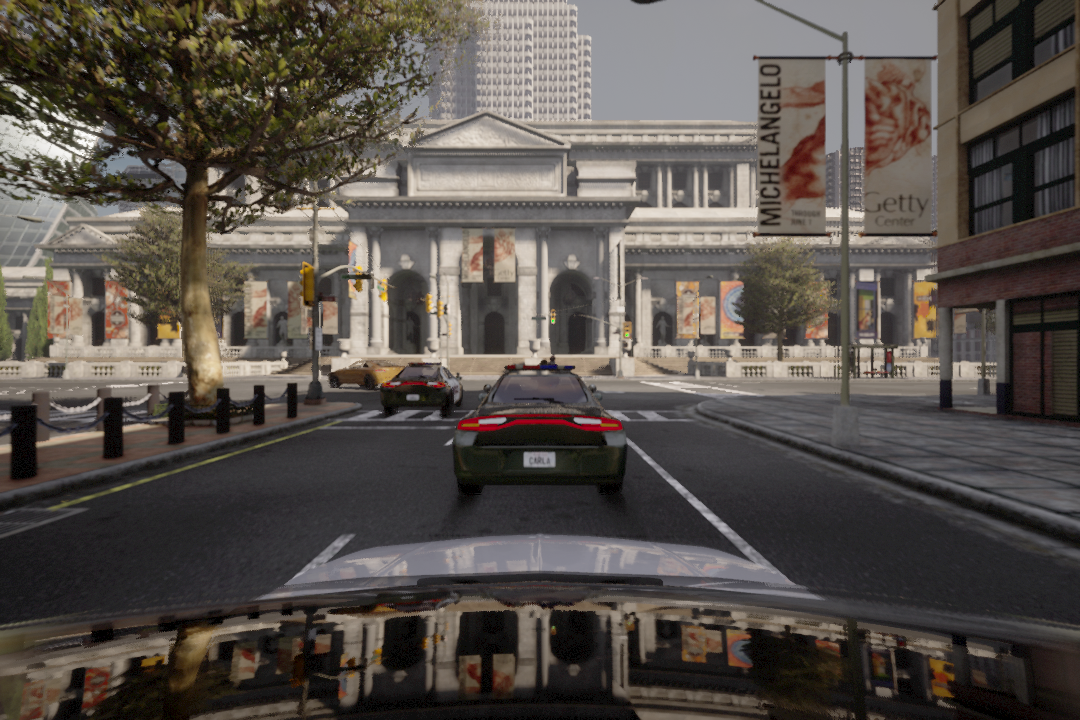TrafficLight: (547, 308, 556, 324)
walkside: (351, 406, 699, 425)
